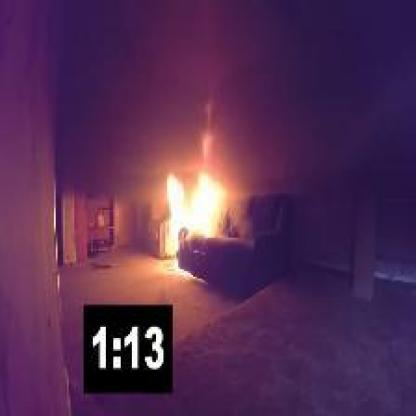fire: (152, 152, 229, 260)
